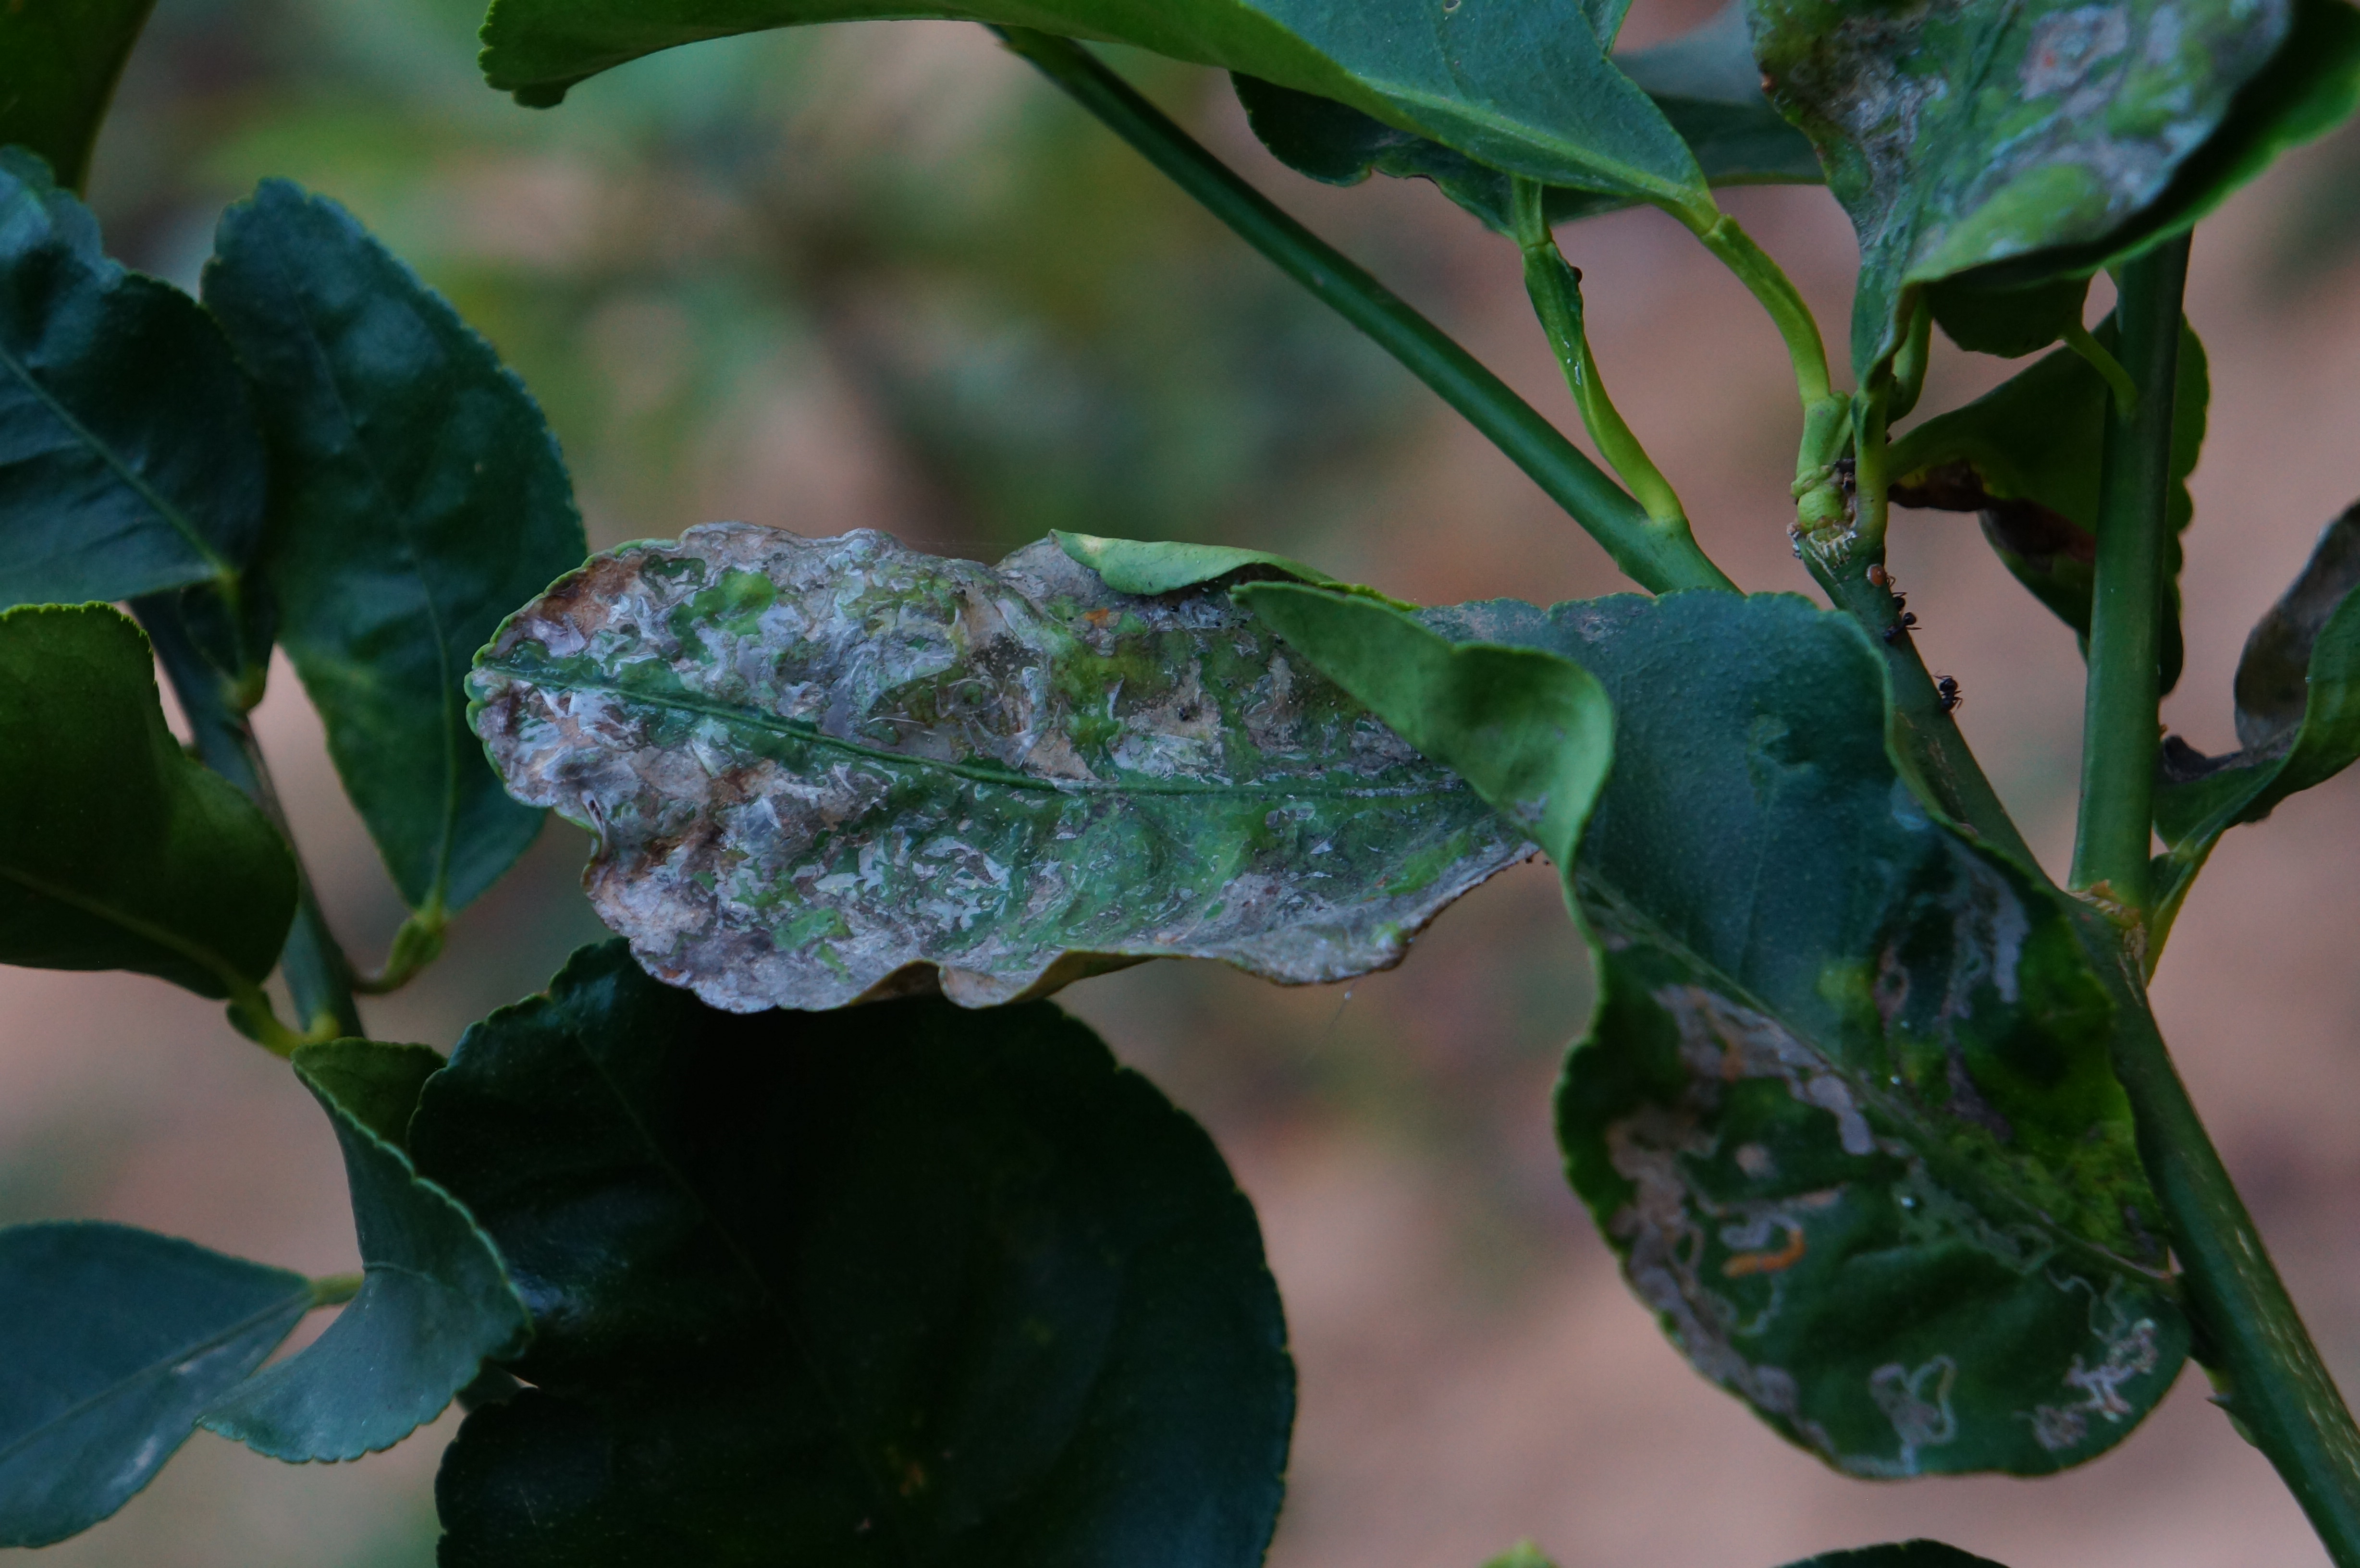damage: (453, 520, 1588, 1046), (1606, 821, 2190, 1510), (1739, 0, 2280, 315)
